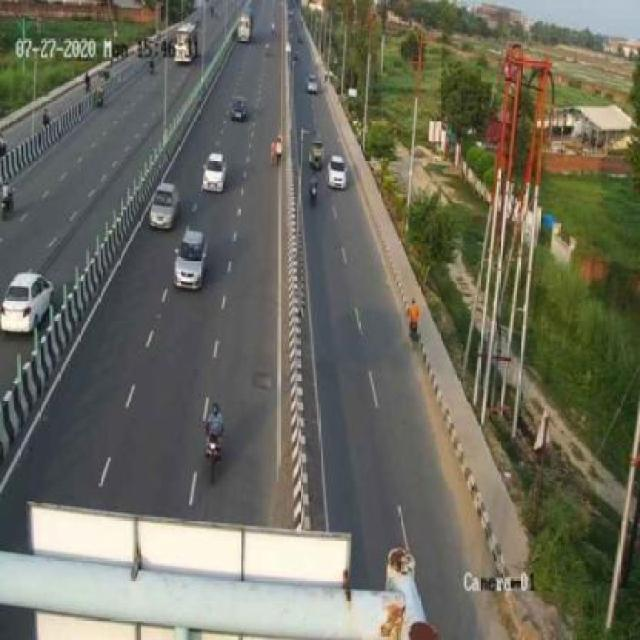car: (3, 266, 59, 339), (170, 225, 216, 292), (149, 182, 180, 230), (228, 91, 254, 131), (202, 154, 226, 194), (328, 156, 349, 190)
